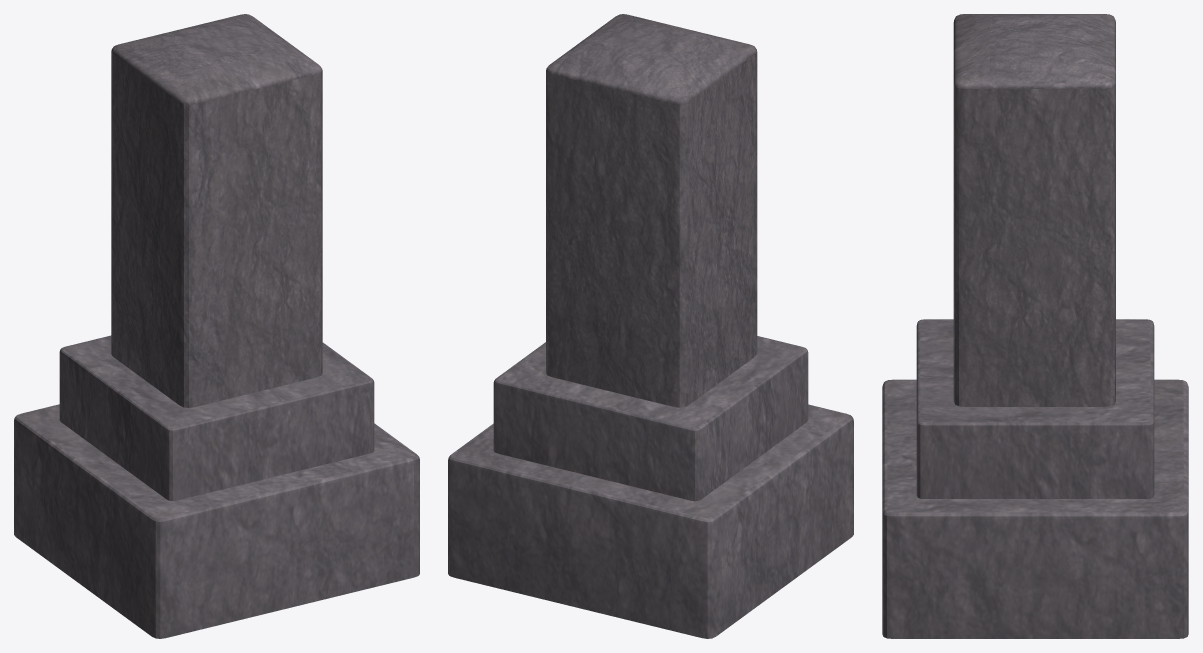
The model's file is tombstone1.FBX.
3 views of the same model, side by side, from view 1: azimuth 30°, elevation 25°; view 2: azimuth 150°, elevation 25°; view 3: azimuth 270°, elevation 25° (orthographic). The views are drawn at different scales.
Parts seen in each view (by area): view 1: tombstone1; view 2: tombstone1; view 3: tombstone1.
Boxes of the visible parts, x1=… form: tombstone1: x1=14, y1=14, x2=419, y2=638; tombstone1: x1=448, y1=14, x2=853, y2=638; tombstone1: x1=882, y1=14, x2=1188, y2=638.
Size of the model in its own units: 31.4 by 29.84 by 57.61.
